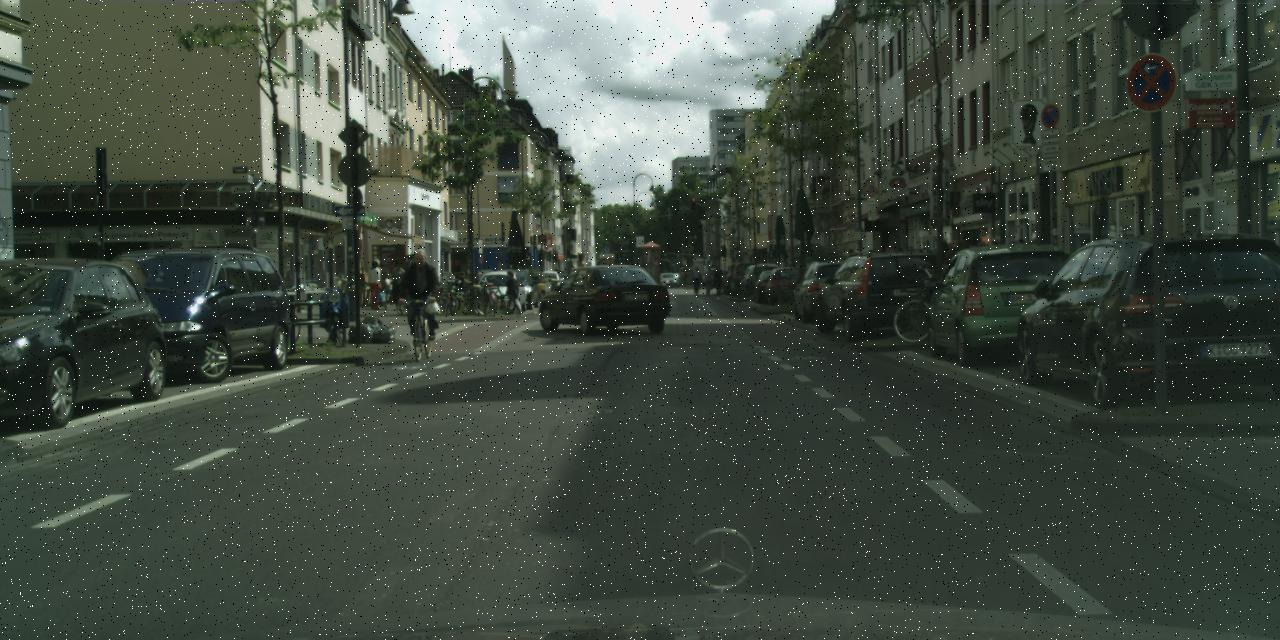ped: (402, 249, 439, 341), (890, 246, 910, 295), (366, 260, 384, 308), (841, 248, 859, 292), (389, 259, 407, 303), (502, 269, 520, 312), (712, 266, 724, 295), (691, 267, 701, 290), (704, 267, 712, 291), (552, 265, 558, 283)
